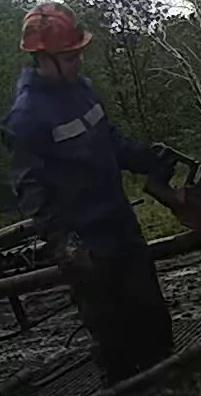gloves: (53, 233, 96, 288), (140, 139, 179, 189)
helmet: (18, 1, 92, 54)
vest: (2, 66, 136, 253)
